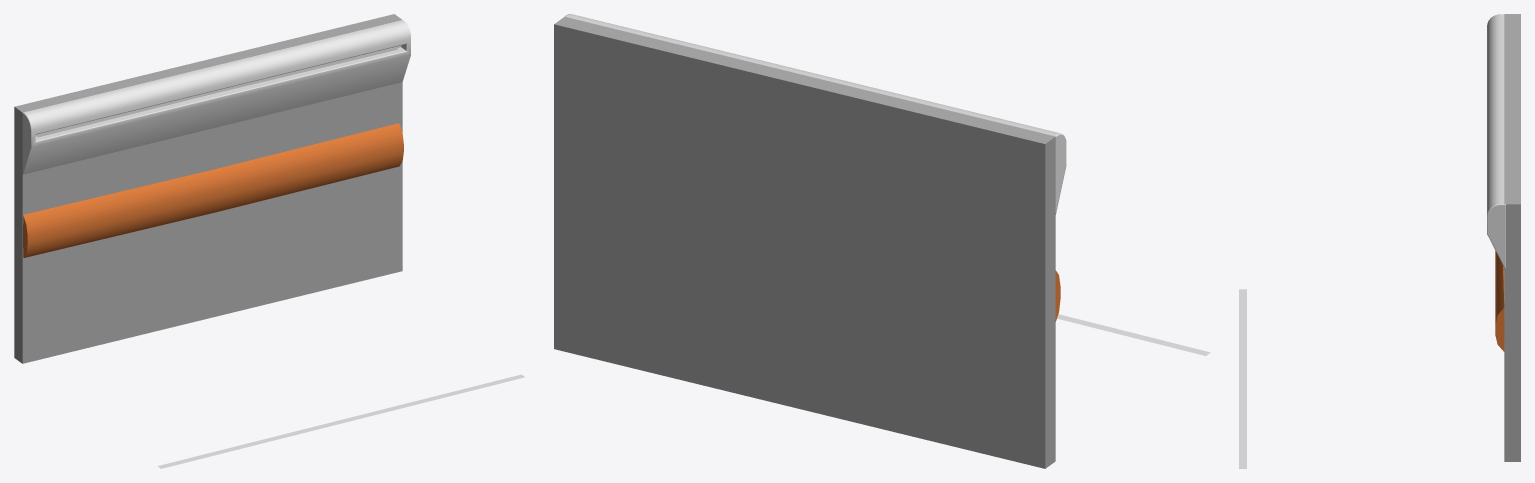
The model's file is BaseWall.fbx.
3 renders of one model, left to right at view 1: azimuth 30°, elevation 25°; view 2: azimuth 150°, elevation 25°; view 3: azimuth 270°, elevation 25°, orthographic. The views are drawn at different scales.
Parts seen in each view (by area): view 1: Wall_Base, WallTop, OrangeStuffEven.001, Led; view 2: Wall_Base, WallTop, Led; view 3: Wall_Base, WallTop, Led, OrangeStuffEven.001.
Part boxes in pixels (<box>): Wall_Base: <box>14,14,402,363</box>; WallTop: <box>22,20,410,174</box>; OrangeStuffEven.001: <box>23,123,403,257</box>; Led: <box>157,374,524,468</box>; Wall_Base: <box>554,16,1055,468</box>; WallTop: <box>565,14,1066,214</box>; Led: <box>1057,314,1210,355</box>; Wall_Base: <box>1504,14,1520,461</box>; WallTop: <box>1487,14,1505,270</box>; Led: <box>1239,289,1246,468</box>; OrangeStuffEven.001: <box>1495,251,1504,351</box>.
Size of the model in its own units: 8.15 by 5.41 by 5.1.
